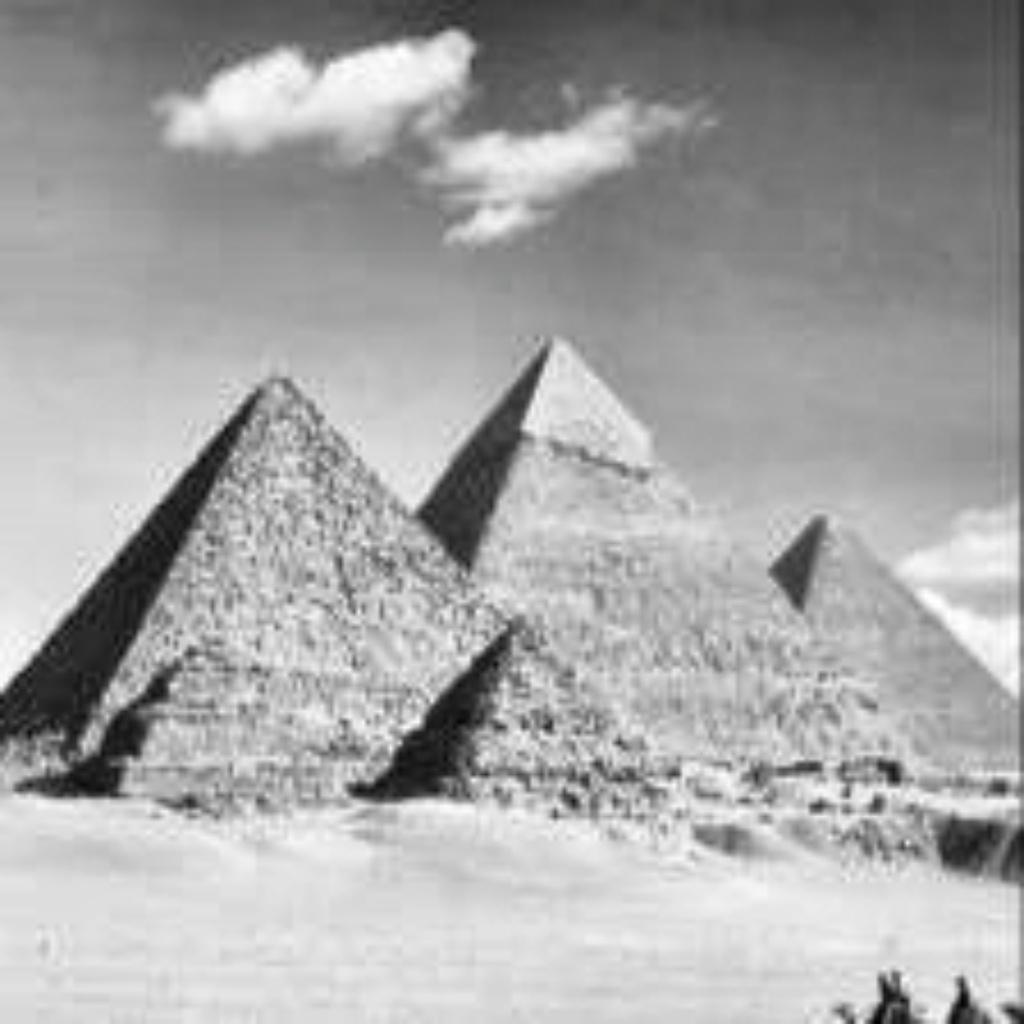Great Pyramids of Giza: (0, 315, 1019, 819)
